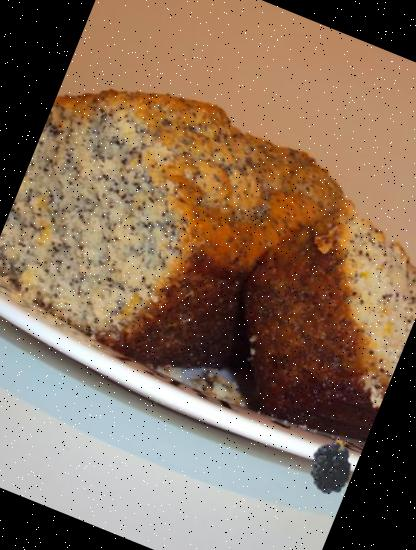Mulberry: (286, 428, 362, 504)
